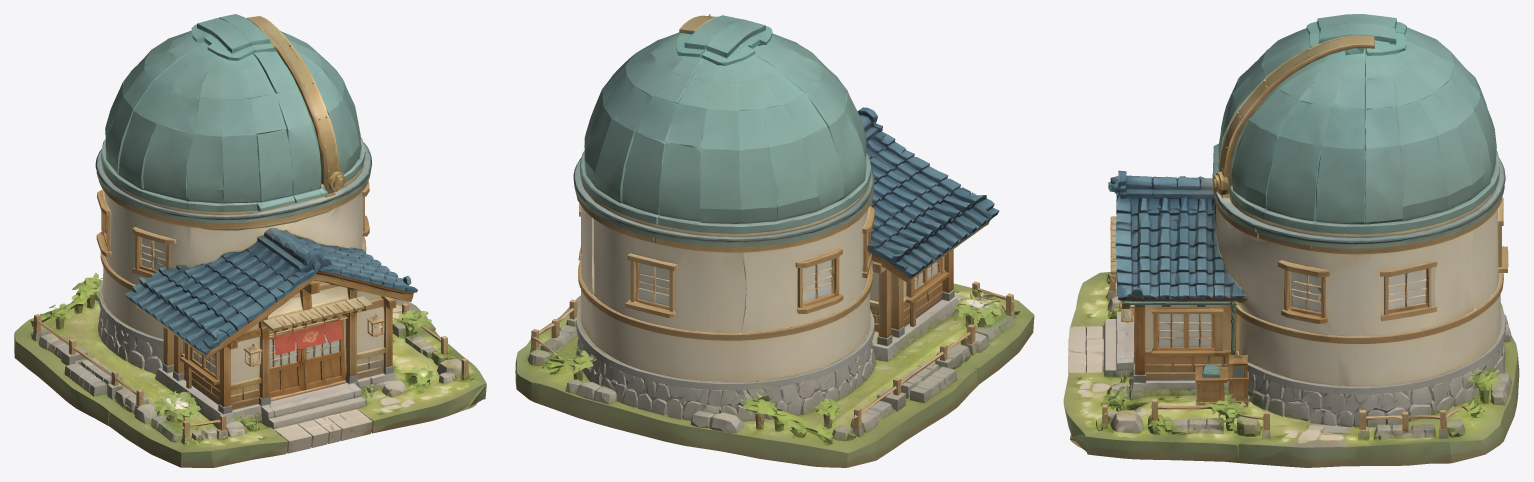
Rendered from source.glb.
The picture shows the model from 3 angles, left to right: view 1: azimuth 30°, elevation 25°; view 2: azimuth 150°, elevation 25°; view 3: azimuth 270°, elevation 25°; orthographic projection. The views are drawn at different scales.
Visible parts, largest first — view 1: model; view 2: model; view 3: model.
Boxes of the visible parts, left/top/right/bottom form: model: left=14, top=14, right=486, bottom=467; model: left=515, top=14, right=1034, bottom=467; model: left=1063, top=14, right=1519, bottom=467.
Bounding box in the file's own units: 1.85 × 1.65 × 1.9.
1 material, 1 textured.
